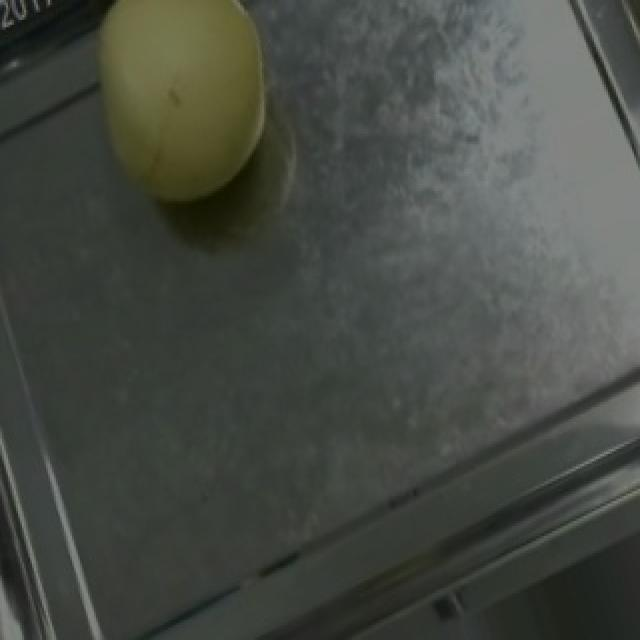Fruit: (54, 0, 310, 243)
